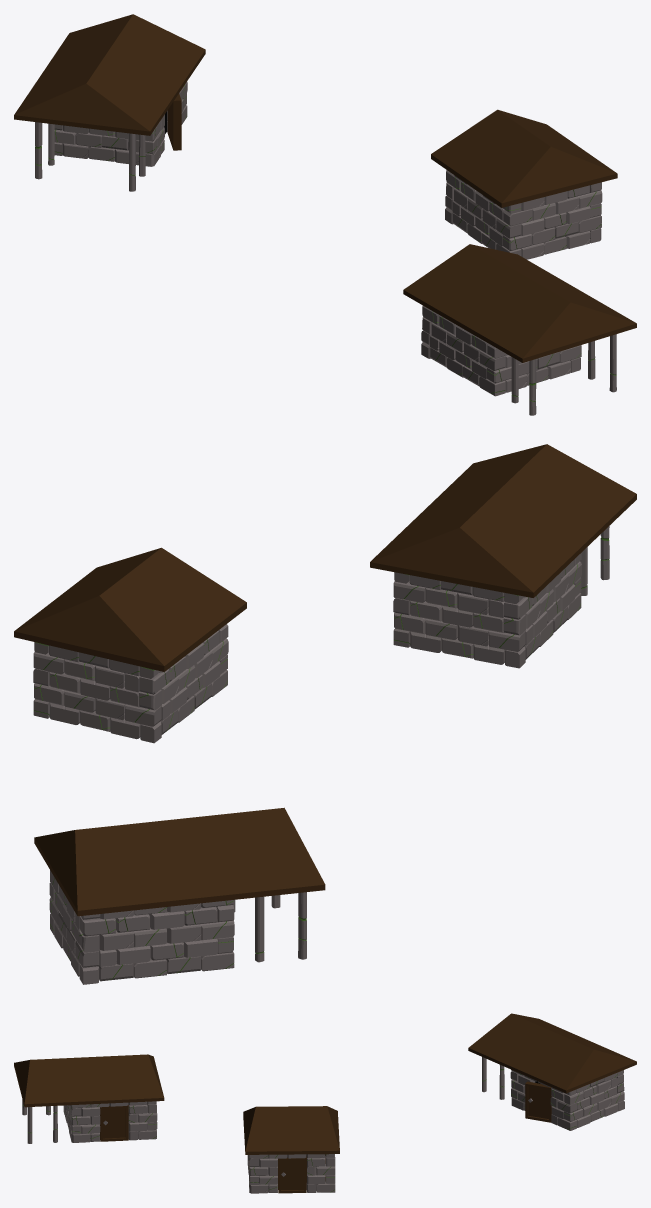
The model's file is casine4.fbx.
3 renders of one model, top to bottom at view 1: azimuth 30°, elevation 25°; view 2: azimuth 150°, elevation 25°; view 3: azimuth 270°, elevation 25°, orthographic. The views are drawn at different scales.
Visible parts, largest first — view 1: casine.003; view 2: casine.003; view 3: casine.003.
Boxes of the visible parts, box(x1,y1,x2,y2) form: casine.003: box(14, 14, 636, 415); casine.003: box(14, 444, 636, 984); casine.003: box(14, 1013, 636, 1193).
Bounding box in the file's own units: 1338 × 334 × 2645.
